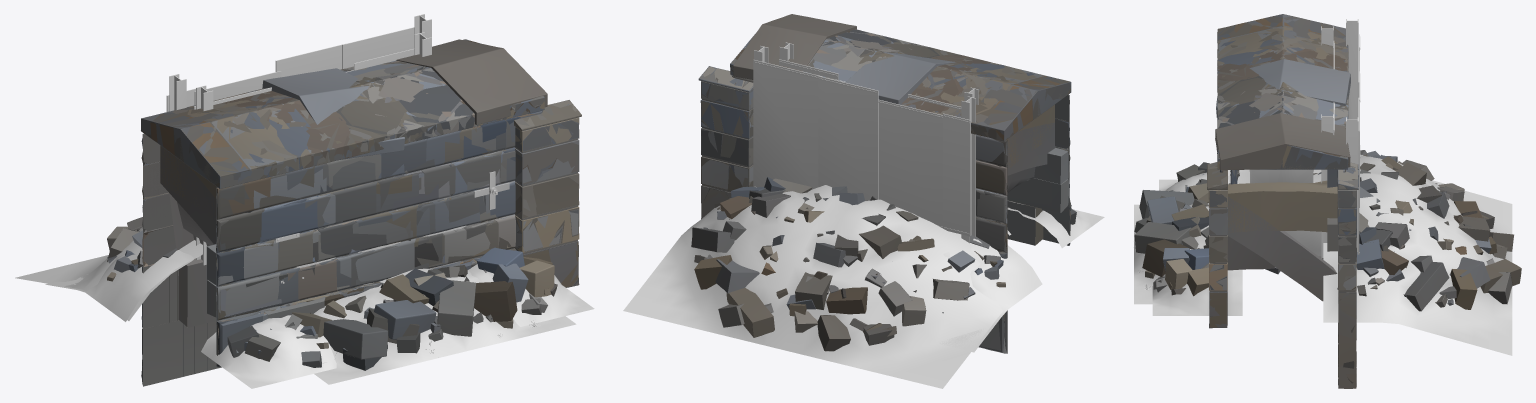
3 renders of one model, left to right at view 1: azimuth 30°, elevation 25°; view 2: azimuth 150°, elevation 25°; view 3: azimuth 270°, elevation 25°, orthographic. The views are drawn at different scales.
Visible parts, largest first — view 1: PW_BW_breach_5p00_Stone_LOD0, PW_BW_collapse_5p00_Stone_LOD0, PW_BW_coping_5p00_Stone_LOD0, PW_BW_breach_5p00_Kit_LOD0, PW_BW_repair_5p00_Stone_LOD0, PW_BW_intact_c_5p00_Stone_LOD0, PW_BW_collapse_5p00_Kit_LOD0, PW_BW_intact_b_5p00_Stone_LOD0, PW_BW_fill_4p40_sn_Stone_LOD0, PW_BW_intact_a_5p00_Stone_LOD0, PW_BW_impact_5p00_Stone_LOD0, PW_BW_impact_5p00_sn_Stone_LOD0 (+3 smaller); view 2: PW_BW_breach_5p00_Kit_LOD0, PW_BW_breach_5p00_Stone_LOD0, PW_BW_coping_5p00_Stone_LOD0, PW_BW_collapse_5p00_Stone_LOD0, PW_BW_repair_5p00_Stone_LOD0, PW_BW_collapse_5p00_Kit_LOD0, PW_BW_intact_c_5p00_Stone_LOD0, PW_BW_intact_b_5p00_Stone_LOD0, PW_BW_impact_5p00_Stone_LOD0, PW_BW_intact_a_5p00_Stone_LOD0, PW_BW_impact_5p00_sn_Stone_LOD0, PW_BW_fill_1p50_Stone_LOD0 (+1 smaller); view 3: PW_BW_breach_5p00_Kit_LOD0, PW_BW_breach_5p00_Stone_LOD0, PW_BW_collapse_5p00_Stone_LOD0, PW_BW_coping_5p00_Stone_LOD0, PW_BW_repair_5p00_Stone_LOD0, PW_BW_intact_b_5p00_Stone_LOD0, PW_BW_intact_c_5p00_Stone_LOD0, PW_BW_intact_a_5p00_Stone_LOD0, PW_BW_fill_1p50_Stone_LOD0, PW_BW_collapse_5p00_Kit_LOD0, PW_BW_impact_5p00_Stone_LOD0, PW_BW_impact_5p00_sn_Stone_LOD0 (+2 smaller).
Boxes of the visible parts, <box> form: PW_BW_breach_5p00_Stone_LOD0: <box>125,100,581,386</box>; PW_BW_collapse_5p00_Stone_LOD0: <box>107,100,580,376</box>; PW_BW_coping_5p00_Stone_LOD0: <box>141,39,578,373</box>; PW_BW_breach_5p00_Kit_LOD0: <box>15,14,594,388</box>; PW_BW_repair_5p00_Stone_LOD0: <box>141,43,579,383</box>; PW_BW_intact_c_5p00_Stone_LOD0: <box>141,39,572,350</box>; PW_BW_collapse_5p00_Kit_LOD0: <box>45,32,576,384</box>; PW_BW_intact_b_5p00_Stone_LOD0: <box>142,66,579,384</box>; PW_BW_fill_4p40_sn_Stone_LOD0: <box>182,72,540,376</box>; PW_BW_intact_a_5p00_Stone_LOD0: <box>141,62,578,364</box>; PW_BW_impact_5p00_Stone_LOD0: <box>141,67,579,338</box>; PW_BW_impact_5p00_sn_Stone_LOD0: <box>142,40,540,366</box>; PW_BW_breach_5p00_Kit_LOD0: <box>623,46,1104,388</box>; PW_BW_breach_5p00_Stone_LOD0: <box>691,66,1076,353</box>; PW_BW_coping_5p00_Stone_LOD0: <box>700,14,1070,258</box>; PW_BW_collapse_5p00_Stone_LOD0: <box>699,72,1069,326</box>; PW_BW_repair_5p00_Stone_LOD0: <box>701,33,1071,352</box>; PW_BW_collapse_5p00_Kit_LOD0: <box>779,42,1042,352</box>; PW_BW_intact_c_5p00_Stone_LOD0: <box>698,32,1070,319</box>; PW_BW_intact_b_5p00_Stone_LOD0: <box>700,31,1069,353</box>; PW_BW_impact_5p00_Stone_LOD0: <box>701,29,1070,220</box>; PW_BW_intact_a_5p00_Stone_LOD0: <box>701,35,1070,251</box>; PW_BW_impact_5p00_sn_Stone_LOD0: <box>730,31,1070,258</box>; PW_BW_fill_1p50_Stone_LOD0: <box>701,29,875,191</box>; PW_BW_breach_5p00_Kit_LOD0: <box>1152,19,1512,355</box>; PW_BW_breach_5p00_Stone_LOD0: <box>1153,154,1521,382</box>; PW_BW_collapse_5p00_Stone_LOD0: <box>1134,150,1464,388</box>; PW_BW_coping_5p00_Stone_LOD0: <box>1209,20,1358,388</box>; PW_BW_repair_5p00_Stone_LOD0: <box>1208,14,1356,388</box>; PW_BW_intact_b_5p00_Stone_LOD0: <box>1209,22,1358,327</box>; PW_BW_intact_c_5p00_Stone_LOD0: <box>1209,14,1358,388</box>; PW_BW_intact_a_5p00_Stone_LOD0: <box>1208,18,1357,388</box>; PW_BW_fill_1p50_Stone_LOD0: <box>1209,107,1357,384</box>; PW_BW_collapse_5p00_Kit_LOD0: <box>1134,26,1444,304</box>; PW_BW_impact_5p00_Stone_LOD0: <box>1185,16,1356,368</box>; PW_BW_impact_5p00_sn_Stone_LOD0: <box>1217,14,1348,184</box>.
Size of the model in its own units: 5.92 by 4.33 by 6.26.
